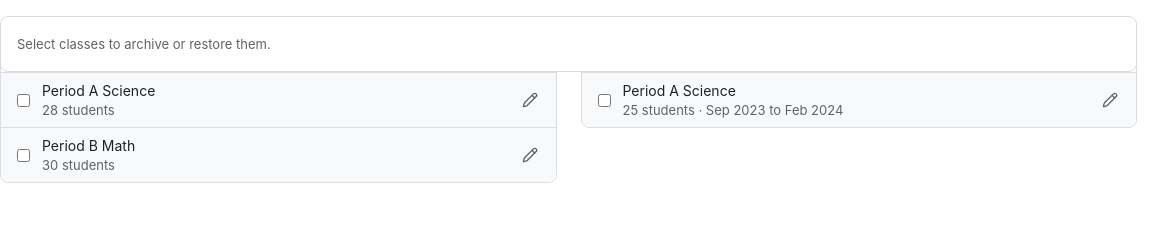
ClassesView › reports a restore rename rather than presenting it as an error
Click the checkbox labelled "Period A Science 25 students · Sep 2023 to Feb 2024": (604, 100) [598, 94, 610, 106]
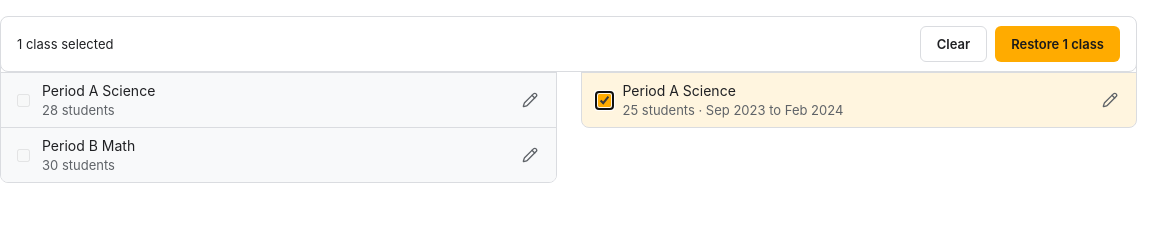
Click the button "Restore 1 class": (1058, 44) [995, 26, 1120, 62]
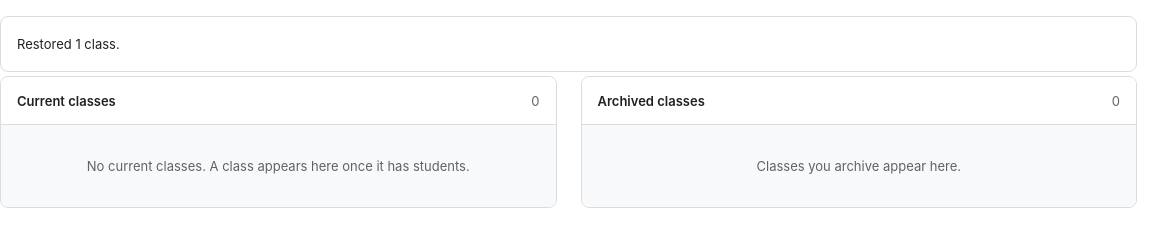
Check: the text "Restored 1 class." is shown, box [17, 35, 120, 53]
